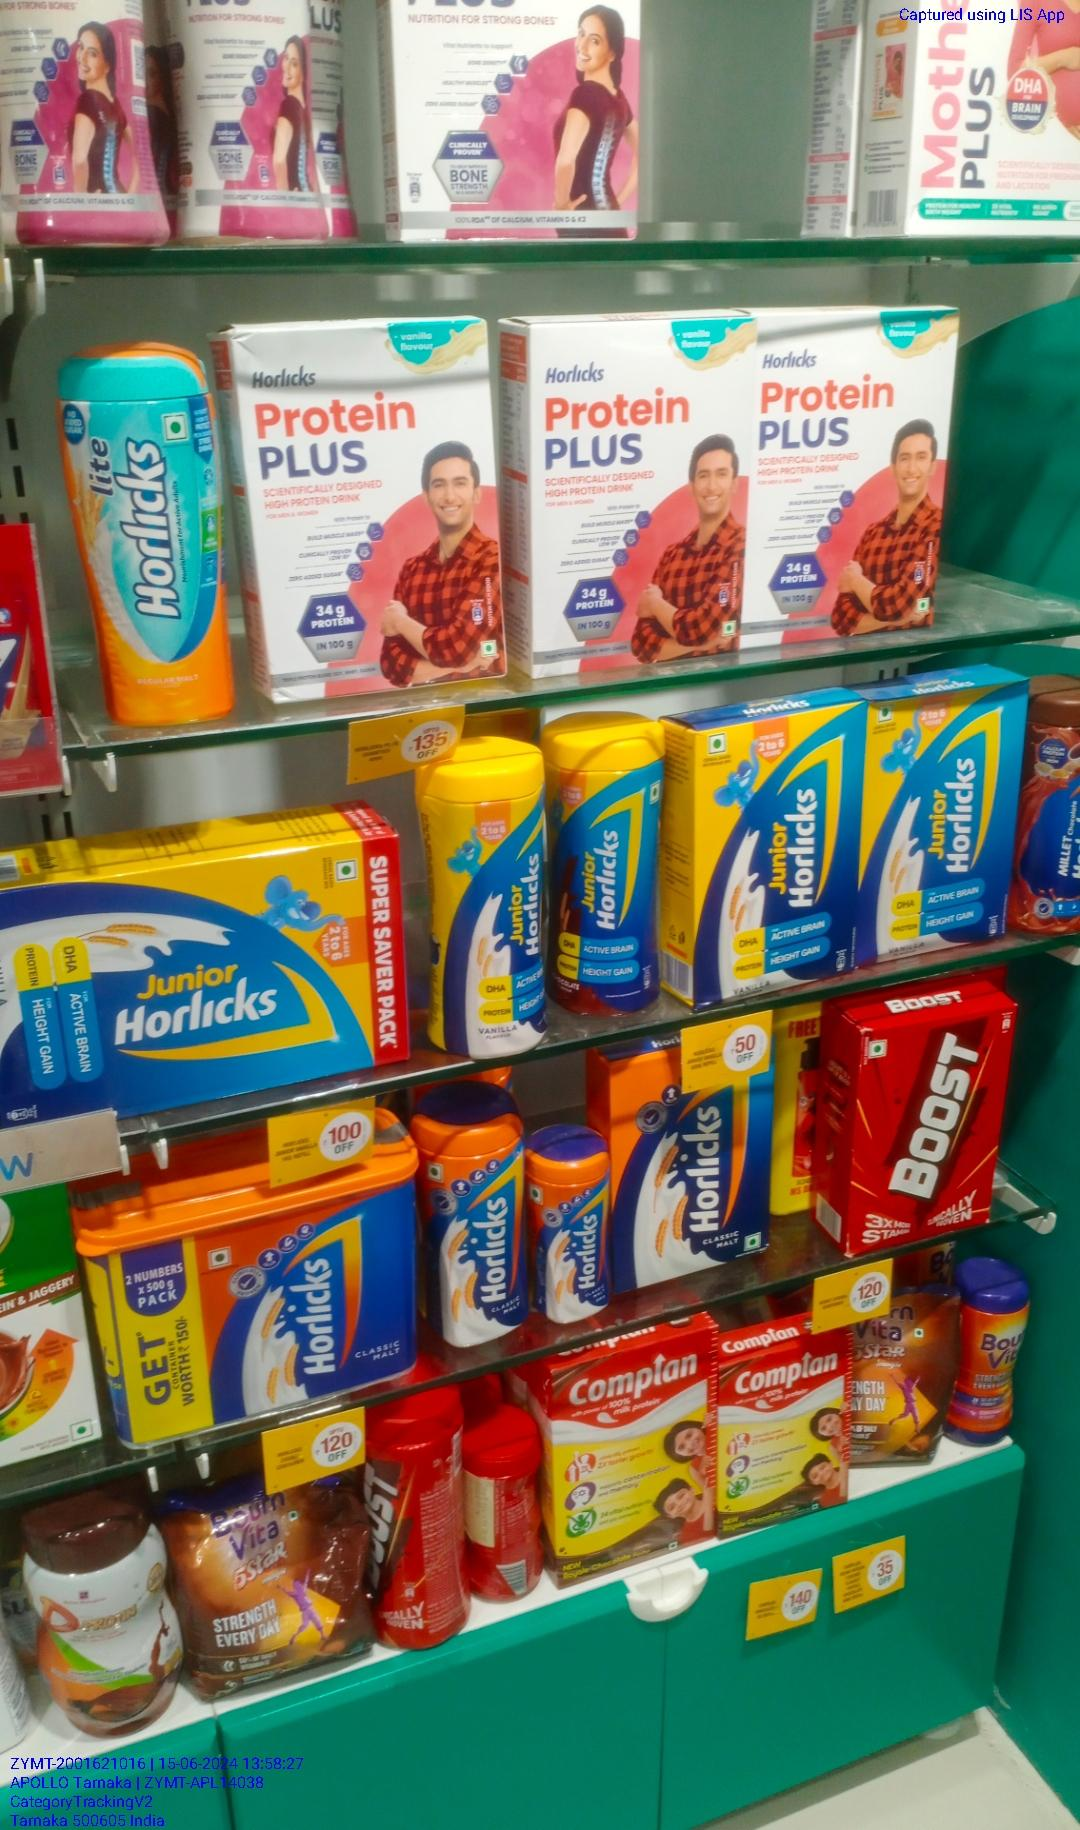BOURN_VITA_200_G_JAR: (959, 1263, 1034, 1443)
BOURN_VITA_FIVE_STAR_MAGIC_500_G_POUCH: (186, 1480, 375, 1687)
COMPLAN_CHOCOLATE_200_GMS_PACK: (723, 1342, 855, 1519)
COMPLAN_CHOCOLATE_500_GMS_PACK: (555, 1340, 719, 1579)
HORLICKS_JUNIOR_VANILLA_500_GM_JAR: (419, 733, 545, 1064)
HORLICKS_LITE_REGULAR_MALT_500_GM_JAR: (59, 337, 237, 725)
HORLICK_CLASSIC_MALT_200_G_JAR: (535, 1124, 609, 1324)
HORLICK_CLASSIC_MALT_500_G_JAR: (432, 1079, 531, 1346)
HORLICK_CLASSIC_MALT_500_G_PACK: (612, 1044, 773, 1279)
HORLICK_MALT_1_KG_CONTAINER: (91, 1146, 428, 1430)
